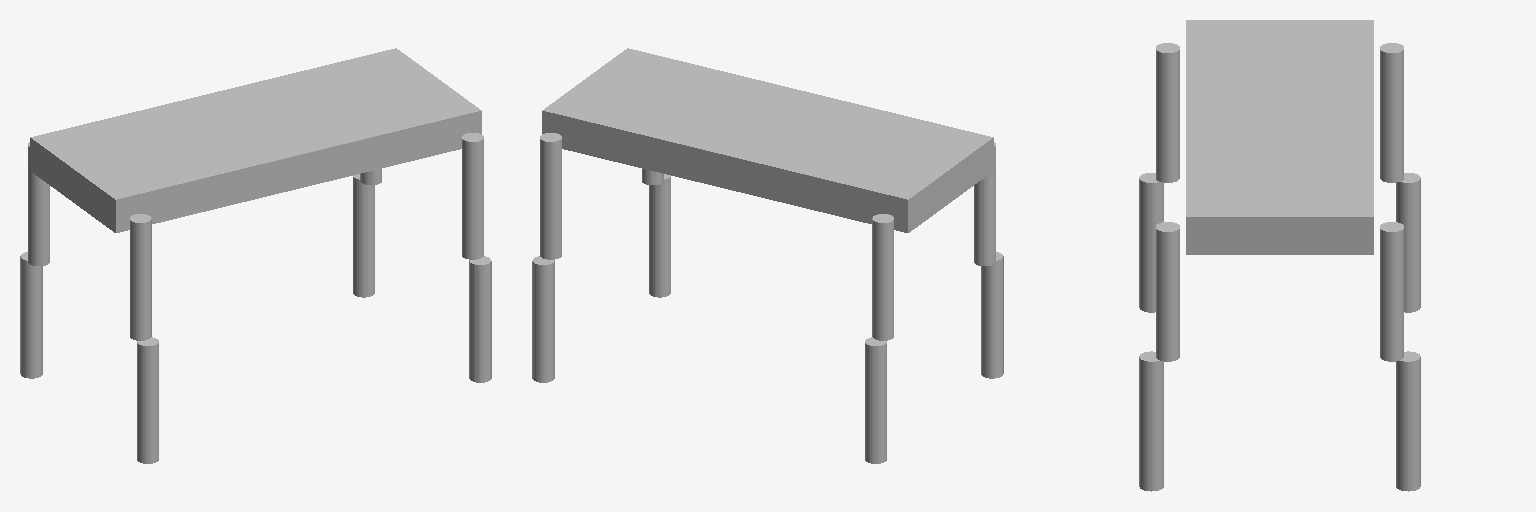
The robot description file, URDF, robot "solo":
<?xml version="1.0"?>
<!-- =================================================================================== -->
<!-- |    This document was autogenerated by xacro from
/tmp/solo/robot_properties_solo/src/robot_properties_solo/resources/xacro/solo12.urdf.xacro | -->
<!-- |    EDITING THIS FILE BY HAND IS NOT RECOMMENDED                                 | -->
<!-- =================================================================================== -->
<robot name="solo"
  xmlns:controller="http://playerstage.sourceforge.net/gazebo/xmlschema/#controller"
  xmlns:interface="http://playerstage.sourceforge.net/gazebo/xmlschema/#interface"
  xmlns:sensor="http://playerstage.sourceforge.net/gazebo/xmlschema/#sensor"
  xmlns:xacro="http://playerstage.sourceforge.net/gazebo/xmlschema/#interface">
  <!-- This file is based on:
  https://github.com/open-dynamic-robot-initiative/open_robot_actuator_hardware/blob/master/mechanics/quadruped_robot_12dof_v1/README.md#quadruped-robot-12dof-v1 -->
  <link name="base_link">
    <!-- BASE LINK INERTIAL -->
    <inertial>
      <origin rpy="0 0 0" xyz="-0.00082966 0.00000105 -0.00060210" />
      <mass value="26.5" />
      <!-- The base is extremely symmetrical. -->
      <inertia ixx="0.00266220" ixy="-0.00003684" ixz="-0.00001716" iyy="0.01388510"
        iyz="-0.00000009" izz="0.01605370" />
    </inertial>
    <!-- BASE LINK VISUAL -->
    <visual>
      <origin rpy="0 0 0" xyz="0 0 0" />
      <geometry>
        <box size="1.14 0.46 0.1" />
      </geometry>
      <material name="grey">
        <color rgba="0.8 0.8 0.8 1.0" />
      </material>
    </visual>
    <!-- BASE LINK COLLISION -->
    <collision>
      <origin rpy="0 0 0" xyz="0 0 0" />
      <!-- <geometry>
        <mesh filename="meshes/stl/solo12/solo_12_base.stl" />
      </geometry> -->
      <geometry>
        <box size="1.14 0.46 0.01" />
      </geometry>
      <material name="grey">
        <color rgba="0.8 0.8 0.8 1.0" />
      </material>
    </collision>
  </link>
  <!-- END BASE LINK -->
  <joint name="FL_HAA" type="revolute">
    <parent link="base_link" />
    <child link="FL_SHOULDER" />
    <limit effort="3" lower="-10" upper="10" velocity="20" />
    <!-- joints rotates around the x-axis -->
    <axis xyz="1 0 0" />
    <origin rpy="0 0 0" xyz="0.57 0.23625 0" />
    <!-- pybullet simulation parameters -->
    <dynamics damping="0.0" friction="0.0" />
  </joint>
  <link name="FL_SHOULDER">
    <!-- HAA VISUAL -->
    <visual>
      <origin rpy="0 0 0" xyz="0.052650 0 0" />
      <!--<geometry>
        <mesh filename="meshes/stl/solo12/solo12_hip_fe_fl.stl" />
      </geometry>-->
      <material name="grey">
        <color rgba="0.8 0.8 0.8 1.0" />
      </material>
    </visual>
    <!-- HAA LINK COLLISION -->
    <!-- <collision>
      <origin rpy="0 0 0" xyz="0.052650 0 0" />
      <geometry>
        <mesh filename="meshes/stl/solo12/solo12_hip_fe_fl.stl" />
      </geometry>
      <material name="grey">
        <color rgba="0.8 0.8 0.8 1.0" />
      </material>
    </collision> -->
    <inertial>
      <mass value="3.0" />
      <!-- HAA body inertia -->
      <origin rpy="0 0 0" xyz="-0.09407251 -0.00438935 0.00001384" />
      <inertia ixx="0.00002802" ixy="0.00003687" ixz="-0.00000009" iyy="0.00038264" iyz="0.00000000"
        izz="0.00038050" />
    </inertial>
  </link>
  <joint name="FL_HFE" type="revolute">
    <parent link="FL_SHOULDER" />
    <child link="FL_UPPER_LEG" />
    <limit effort="3" lower="-10" upper="10" velocity="20" />
    <!-- joints rotates around the y-axis -->
    <axis xyz="0 1 0" />
    <origin rpy="0 0 0" xyz="-0.05265 0.0378 0" />
    <!-- pybullet simulation parameters -->
    <dynamics damping="0.0" friction="0.0" />
  </joint>
  <link name="FL_UPPER_LEG">
    <!-- Left upper leg inertia -->
    <inertial>
      <mass value="3.12" />
      <origin rpy="0 0 0" xyz="0.00001530 0.04772628 -0.21163221" />
      <inertia ixx="0.00041540" ixy="0.00000000" ixz="0.00000010" iyy="0.00041637" iyz="-0.00004589"
        izz="0.00002982" />
    </inertial>
    <!-- UPPER LEG LINK VISUAL -->
    <visual>
      <origin rpy="0 0 0" xyz="0 0 -0.175" />
      <geometry>
        <cylinder length="0.35" radius="0.03" />
      </geometry>
      <material name="grey">
        <color rgba="0.8 0.8 0.8 1.0" />
      </material>
    </visual>
    <!-- UPPER LEG LINK COLLISION -->
    <collision>
      <origin rpy="0 0 0" xyz="0 0 -0.175" />
      <!-- <geometry>
        <mesh filename="meshes/stl/without_foot/solo_upper_leg_left_side.stl" />
      </geometry> -->
      <geometry>
        <cylinder length="0.35" radius="0.03" />
      </geometry>
      <material name="grey">
        <color rgba="0.8 0.8 0.8 1.0" />
      </material>
    </collision>
  </link>
  <!-- END UPPER LEG LINK -->
  <!-- KFE: Joint between the upper leg and the lower leg -->
  <joint name="FL_KFE" type="revolute">
    <parent link="FL_UPPER_LEG" />
    <child link="FL_LOWER_LEG" />
    <limit effort="3" lower="-10" upper="10" velocity="20" />
    <!-- joints rotates around the y-axis -->
    <axis xyz="0 1 0" />
    <origin rpy="0 0 0" xyz="0 0.04 -0.35" />
    <!-- pybullet simulation parameters -->
    <dynamics damping="0.0" friction="0.0" />
  </joint>
  <link name="FL_LOWER_LEG">
    <!-- Left lower leg inertia -->
    <inertial>
      <mass value="0.5" />
      <origin rpy="0 0 0" xyz="0.00000000 0.020971332 -0.189104652" />
      <inertia ixx="0.00008508" ixy="0.00000000" ixz="0.00000000" iyy="0.00008580" iyz="-0.00000200"
        izz="0.00000139" />
    </inertial>
    <!-- LOWER LEG LINK VISUAL -->
    <visual>
      <origin rpy="0 0 0" xyz="0 0 -0.175" />
      <geometry>
        <cylinder length="0.35" radius="0.03" />
      </geometry>
      <material name="grey">
        <color rgba="0.8 0.8 0.8 1.0" />
      </material>
    </visual>
    <!-- LOWER LEG LINK COLLISION -->
    <collision>
      <origin rpy="0 0 0" xyz="0 0 -0.35" />
      <!-- <geometry>
        <mesh filename="meshes/stl/without_foot/solo_lower_leg_v2_left_side.stl" />
      </geometry> -->
      <geometry>
        <sphere radius="0.03" />
      </geometry>
      <material name="grey">
        <color rgba="0.8 0.8 0.8 1.0" />
      </material>
    </collision>
    
  </link>
  <!-- END LOWER LEG LINK -->
  <!-- Joint between the lower leg and the ankle,
         this is only a dummy joint such that we
         can assign coordinate frames to foot-->
  <joint name="FL_ANKLE" type="fixed" dont_collapse="true">
    <parent link="FL_LOWER_LEG" />
    <child link="FL_FOOT" />
    <origin rpy="0 0 0" xyz="0 0.0243 -0.35" />
    <!-- Limits -->
    <limit effort="3" lower="-10" upper="10" velocity="20" />
    <!-- pybullet simulation parameters -->
    <dynamics damping="0.0" friction="0.0" />
  </joint>
  <link name="FL_FOOT">
    <!-- FOOT INERTIAL -->
    <inertial>
      <origin rpy="0 0 0" xyz="0 0 0.00035767" />
      <mass value="0.15" />
      <inertia ixx="0.00000057" ixy="0.0" ixz="0.0" iyy="0.00000084" iyz="0.0" izz="0.00000053" />
    </inertial>
  </link>
  <!-- END FOOT LINK -->
  <joint name="FR_HAA" type="revolute">
    <parent link="base_link" />
    <child link="FR_SHOULDER" />
    <limit effort="3" lower="-10" upper="10" velocity="20" />
    <!-- joints rotates around the x-axis -->
    <axis xyz="1 0 0" />
    <origin rpy="0 0 0" xyz="0.57 -0.23625 0" />
    <!-- pybullet simulation parameters -->
    <dynamics damping="0.0" friction="0.0" />
  </joint>
  <link name="FR_SHOULDER">
    <!-- HAA VISUAL -->
    <visual>
      <origin rpy="0 0 0" xyz="0.052650 0 0" />
      <!--<geometry>
        <mesh filename="meshes/stl/solo12/solo12_hip_fe_fr.stl" />
      </geometry>-->
      <material name="grey">
        <color rgba="0.8 0.8 0.8 1.0" />
      </material>
    </visual>
    <!-- HAA LINK COLLISION -->
    <!-- <collision>
      <origin rpy="0 0 0" xyz="0.052650 0 0" />
      <geometry>
        <mesh filename="meshes/stl/solo12/solo12_hip_fe_fr.stl" />
      </geometry>
      <material name="grey">
        <color rgba="0.8 0.8 0.8 1.0" />
      </material>
    </collision> -->
    <inertial>
      <mass value="3.0" />
      <!-- HAA body inertia -->
      <origin rpy="0 0 0" xyz="-0.09407251 0.00438935 -0.00001384" />
      <inertia ixx="0.00002802" ixy="-0.00003687" ixz="0.00000009" iyy="0.00038264" iyz="0.00000000"
        izz="0.00038050" />
    </inertial>
  </link>
  <joint name="FR_HFE" type="revolute">
    <parent link="FR_SHOULDER" />
    <child link="FR_UPPER_LEG" />
    <limit effort="3" lower="-10" upper="10" velocity="20" />
    <!-- joints rotates around the y-axis -->
    <axis xyz="0 1 0" />
    <origin rpy="0 0 0" xyz="-0.05265 -0.0378 0" />
    <!-- pybullet simulation parameters -->
    <dynamics damping="0.0" friction="0.0" />
  </joint>
  <link name="FR_UPPER_LEG">
    <!-- Right upper leg inertia -->
    <inertial>
      <mass value="3.12" />
      <origin rpy="0 0 0" xyz="-0.00001530 -0.04772628 -0.21163221" />
      <inertia ixx="0.00041540" ixy="0.00000000" ixz="-0.00000010" iyy="0.00041637" iyz="0.00004589"
        izz="0.00002982" />
    </inertial>
    <!-- UPPER LEG LINK VISUAL -->
    <visual>
      <origin rpy="0 0 0" xyz="0 0 -0.175" />
      <geometry>
        <cylinder length="0.35" radius="0.03" />
      </geometry>
      <material name="grey">
        <color rgba="0.8 0.8 0.8 1.0" />
      </material>
    </visual>
    <!-- UPPER LEG LINK COLLISION -->
    <collision>
      <origin rpy="0 0 0" xyz="0 0 -0.175" />
      <!-- <geometry>
        <mesh filename="meshes/stl/without_foot/solo_upper_leg_right_side.stl" />
      </geometry> -->
      <geometry>
        <cylinder length="0.35" radius="0.03" />
      </geometry>
      <material name="grey">
        <color rgba="0.8 0.8 0.8 1.0" />
      </material>
    </collision>
  </link>
  <!-- END UPPER LEG LINK -->
  <!-- KFE: Joint between the upper leg and the lower leg -->
  <joint name="FR_KFE" type="revolute">
    <parent link="FR_UPPER_LEG" />
    <child link="FR_LOWER_LEG" />
    <limit effort="3" lower="-10" upper="10" velocity="20" />
    <!-- joints rotates around the y-axis -->
    <axis xyz="0 1 0" />
    <origin rpy="0 0 0" xyz="0 -0.04 -0.35" />
    <!-- pybullet simulation parameters -->
    <dynamics damping="0.0" friction="0.0" />
  </joint>
  <link name="FR_LOWER_LEG">
    <!-- Right lower leg inertia -->
    <inertial>
      <mass value="0.5" />
      <origin rpy="0 0 0" xyz="0.00000000 -0.020971332 -0.189104652" />
      <inertia ixx="0.00008508" ixy="0.00000000" ixz="0.00000000" iyy="0.00008580" iyz="0.00000200"
        izz="0.00000139" />
    </inertial>
    <!-- LOWER LEG LINK VISUAL -->
    <visual>
      <origin rpy="0 0 0" xyz="0 0 -0.175" />
      <geometry>
        <cylinder length="0.35" radius="0.03" />
      </geometry>
      <material name="grey">
        <color rgba="0.8 0.8 0.8 1.0" />
      </material>
    </visual>
    <!-- LOWER LEG LINK COLLISION -->
    <collision>
      <origin rpy="0 0 0" xyz="0 0 -0.35" />
      <!-- <geometry>
        <mesh filename="meshes/stl/without_foot/solo_lower_leg_v2_right_side.stl" />
      </geometry> -->
      <geometry>
        <sphere radius="0.03" />
      </geometry>
      <material name="grey">
        <color rgba="0.8 0.8 0.8 1.0" />
      </material>
    </collision>
  </link>
  <!-- END LOWER LEG LINK -->
  <!-- Joint between the lower leg and the ankle,
         this is only a dummy joint such that we
         can assign coordinate frames to foot-->
  <joint name="FR_ANKLE" type="fixed" dont_collapse="true">
    <parent link="FR_LOWER_LEG" />
    <child link="FR_FOOT" />
    <origin rpy="0 0 0" xyz="0 -0.0243 -0.35" />
    <!-- Limits -->
    <limit effort="3" lower="-10" upper="10" velocity="20" />
    <!-- pybullet simulation parameters -->
    <dynamics damping="0.0" friction="0.0" />
  </joint>
  <link name="FR_FOOT">
    <!-- FOOT INERTIAL -->
    <inertial>
      <origin rpy="0 0 0" xyz="0 0 0.00035767" />
      <mass value="0.15" />
      <inertia ixx="0.00000057" ixy="0.0" ixz="0.0" iyy="0.00000084" iyz="0.0" izz="0.00000053" />
    </inertial>
  </link>
  <!-- END FOOT LINK -->
  <joint name="HL_HAA" type="revolute">
    <parent link="base_link" />
    <child link="HL_SHOULDER" />
    <limit effort="3" lower="-10" upper="10" velocity="20" />
    <!-- joints rotates around the x-axis -->
    <axis xyz="1 0 0" />
    <origin rpy="0 0 0" xyz="-0.57 0.23625 0" />
    <!-- pybullet simulation parameters -->
    <dynamics damping="0.0" friction="0.0" />
  </joint>
  <link name="HL_SHOULDER">
    <!-- HAA VISUAL -->
    <visual>
      <origin rpy="0 0 0" xyz="-0.052650 0 0" />
      <!--<geometry>
        <mesh filename="meshes/stl/solo12/solo12_hip_fe_hl.stl" />
      </geometry>-->
      <material name="grey">
        <color rgba="0.8 0.8 0.8 1.0" />
      </material>
    </visual>
    <!-- HAA LINK COLLISION -->
    <!-- <collision>
      <origin rpy="0 0 0" xyz="-0.052650 0 0" />
      <geometry>
        <mesh filename="meshes/stl/solo12/solo12_hip_fe_hl.stl" />
      </geometry>
      <material name="grey">
        <color rgba="0.8 0.8 0.8 1.0" />
      </material>
    </collision> -->
    <inertial>
      <mass value="3.0" />
      <!-- HAA body inertia -->
      <origin rpy="0 0 0" xyz="0.09407251 -0.00438935 -0.00001384" />
      <inertia ixx="0.00002802" ixy="-0.00003687" ixz="-0.00000009" iyy="0.00038264"
        iyz="0.00000000" izz="0.00038050" />
    </inertial>
  </link>
  <joint name="HL_HFE" type="revolute">
    <parent link="HL_SHOULDER" />
    <child link="HL_UPPER_LEG" />
    <limit effort="3" lower="-10" upper="10" velocity="20" />
    <!-- joints rotates around the y-axis -->
    <axis xyz="0 1 0" />
    <origin rpy="0 0 0" xyz="0.05265 0.0378 0" />
    <!-- pybullet simulation parameters -->
    <dynamics damping="0.0" friction="0.0" />
  </joint>
  <link name="HL_UPPER_LEG">
    <!-- Left upper leg inertia -->
    <inertial>
      <mass value="3.12" />
      <origin rpy="0 0 0" xyz="0.00001530 0.04772628 -0.21163221" />
      <inertia ixx="0.00041540" ixy="0.00000000" ixz="0.00000010" iyy="0.00041637" iyz="-0.00004589"
        izz="0.00002982" />
    </inertial>
    <!-- UPPER LEG LINK VISUAL -->
    <visual>
      <origin rpy="0 0 0" xyz="0 0 -0.175" />
      <geometry>
        <cylinder length="0.35" radius="0.03" />
      </geometry>
      <material name="grey">
        <color rgba="0.8 0.8 0.8 1.0" />
      </material>
    </visual>
    <!-- UPPER LEG LINK COLLISION -->
    <collision>
      <origin rpy="0 0 0" xyz="0 0 -0.175" />
      <!-- <geometry>
        <mesh filename="meshes/stl/without_foot/solo_upper_leg_left_side.stl" />
      </geometry> -->
      <geometry>
        <cylinder length="0.35" radius="0.03" />
      </geometry>
      <material name="grey">
        <color rgba="0.8 0.8 0.8 1.0" />
      </material>
    </collision>
  </link>
  <!-- END UPPER LEG LINK -->
  <!-- KFE: Joint between the upper leg and the lower leg -->
  <joint name="HL_KFE" type="revolute">
    <parent link="HL_UPPER_LEG" />
    <child link="HL_LOWER_LEG" />
    <limit effort="3" lower="-10" upper="10" velocity="20" />
    <!-- joints rotates around the y-axis -->
    <axis xyz="0 1 0" />
    <origin rpy="0 0 0" xyz="0 0.04 -0.35" />
    <!-- pybullet simulation parameters -->
    <dynamics damping="0.0" friction="0.0" />
  </joint>
  <link name="HL_LOWER_LEG">
    <!-- Left lower leg inertia -->
    <inertial>
      <mass value="0.5" />
      <origin rpy="0 0 0" xyz="0.00000000 0.020971332 -0.189104652" />
      <inertia ixx="0.00008508" ixy="0.00000000" ixz="0.00000000" iyy="0.00008580" iyz="-0.00000200"
        izz="0.00000139" />
    </inertial>
    <!-- LOWER LEG LINK VISUAL -->
    <visual>
      <origin rpy="0 0 0" xyz="0 0 -0.175" />
      <geometry>
        <cylinder length="0.35" radius="0.03" />
      </geometry>
      <material name="grey">
        <color rgba="0.8 0.8 0.8 1.0" />
      </material>
    </visual>
    <!-- LOWER LEG LINK COLLISION -->
    <collision>
      <origin rpy="0 0 0" xyz="0 0 -0.35" />
      <!-- <geometry>
        <mesh filename="meshes/stl/without_foot/solo_lower_leg_v2_left_side.stl" />
      </geometry> -->
      <geometry>
        <sphere radius="0.03" />
      </geometry>
      <material name="grey">
        <color rgba="0.8 0.8 0.8 1.0" />
      </material>
    </collision>
  </link>
  <!-- END LOWER LEG LINK -->
  <!-- Joint between the lower leg and the ankle,
         this is only a dummy joint such that we
         can assign coordinate frames to foot-->
  <joint name="HL_ANKLE" type="fixed" dont_collapse="true">
    <parent link="HL_LOWER_LEG" />
    <child link="HL_FOOT" />
    <origin rpy="0 0 0" xyz="0 0.0243 -0.35" />
    <!-- Limits -->
    <limit effort="3" lower="-10" upper="10" velocity="20" />
    <!-- pybullet simulation parameters -->
    <dynamics damping="0.0" friction="0.0" />
  </joint>
  <link name="HL_FOOT">
    <!-- FOOT INERTIAL -->
    <inertial>
      <origin rpy="0 0 0" xyz="0 0 0.00035767" />
      <mass value="0.15" />
      <inertia ixx="0.00000057" ixy="0.0" ixz="0.0" iyy="0.00000084" iyz="0.0" izz="0.00000053" />
    </inertial>
  </link>
  <!-- END FOOT LINK -->
  <joint name="HR_HAA" type="revolute">
    <parent link="base_link" />
    <child link="HR_SHOULDER" />
    <limit effort="3" lower="-10" upper="10" velocity="20" />
    <!-- joints rotates around the x-axis -->
    <axis xyz="1 0 0" />
    <origin rpy="0 0 0" xyz="-0.57 -0.23625 0" />
    <!-- pybullet simulation parameters -->
    <dynamics damping="0.0" friction="0.0" />
  </joint>
  <link name="HR_SHOULDER">
    <!-- HAA VISUAL -->
    <visual>
      <origin rpy="0 0 0" xyz="-0.052650 0 0" />
      <!--<geometry>
        <mesh filename="meshes/stl/solo12/solo12_hip_fe_hr.stl" />
      </geometry>-->
      <material name="grey">
        <color rgba="0.8 0.8 0.8 1.0" />
      </material>
    </visual>
    <!-- HAA LINK COLLISION -->
    <!-- <collision>
      <origin rpy="0 0 0" xyz="-0.052650 0 0" />
      <geometry>
        <mesh filename="meshes/stl/solo12/solo12_hip_fe_hr.stl" />
      </geometry>
      <material name="grey">
        <color rgba="0.8 0.8 0.8 1.0" />
      </material>
    </collision> -->
    <inertial>
      <mass value="3.0" />
      <!-- HAA body inertia -->
      <origin rpy="0 0 0" xyz="0.09407251 0.00438935 0.00001384" />
      <inertia ixx="0.00002802" ixy="0.00003687" ixz="0.00000009" iyy="0.00038264" iyz="0.00000000"
        izz="0.00038050" />
    </inertial>
  </link>
  <joint name="HR_HFE" type="revolute">
    <parent link="HR_SHOULDER" />
    <child link="HR_UPPER_LEG" />
    <limit effort="3" lower="-10" upper="10" velocity="20" />
    <!-- joints rotates around the y-axis -->
    <axis xyz="0 1 0" />
    <origin rpy="0 0 0" xyz="0.05265 -0.0378 0" />
    <!-- pybullet simulation parameters -->
    <dynamics damping="0.0" friction="0.0" />
  </joint>
  <link name="HR_UPPER_LEG">
    <!-- Right upper leg inertia -->
    <inertial>
      <mass value="3.12" />
      <origin rpy="0 0 0" xyz="-0.00001530 -0.04772628 -0.21163221" />
      <inertia ixx="0.00041540" ixy="0.00000000" ixz="-0.00000010" iyy="0.00041637" iyz="0.00004589"
        izz="0.00002982" />
    </inertial>
    <!-- UPPER LEG LINK VISUAL -->
    <visual>
      <origin rpy="0 0 0" xyz="0 0 -0.175" />
      <geometry>
        <cylinder length="0.35" radius="0.03" />
      </geometry>
      <material name="grey">
        <color rgba="0.8 0.8 0.8 1.0" />
      </material>
    </visual>
    <!-- UPPER LEG LINK COLLISION -->
    <collision>
      <origin rpy="0 0 0" xyz="0 0 -0.175" />
      <!-- <geometry>
        <mesh filename="meshes/stl/without_foot/solo_upper_leg_right_side.stl" />
      </geometry> -->
      <geometry>
        <cylinder length="0.35" radius="0.03" />
      </geometry>
      <material name="grey">
        <color rgba="0.8 0.8 0.8 1.0" />
      </material>
    </collision>
  </link>
  <!-- END UPPER LEG LINK -->
  <!-- KFE: Joint between the upper leg and the lower leg -->
  <joint name="HR_KFE" type="revolute">
    <parent link="HR_UPPER_LEG" />
    <child link="HR_LOWER_LEG" />
    <limit effort="3" lower="-10" upper="10" velocity="20" />
    <!-- joints rotates around the y-axis -->
    <axis xyz="0 1 0" />
    <origin rpy="0 0 0" xyz="0 -0.04 -0.35" />
    <!-- pybullet simulation parameters -->
    <dynamics damping="0.0" friction="0.0" />
  </joint>
  <link name="HR_LOWER_LEG">
    <!-- Right lower leg inertia -->
    <inertial>
      <mass value="0.5" />
      <origin rpy="0 0 0" xyz="0.00000000 -0.020971332 -0.189104652" />
      <inertia ixx="0.00008508" ixy="0.00000000" ixz="0.00000000" iyy="0.00008580" iyz="0.00000200"
        izz="0.00000139" />
    </inertial>
    <!-- LOWER LEG LINK VISUAL -->
    <visual>
      <origin rpy="0 0 0" xyz="0 0 -0.175" />
      <geometry>
        <cylinder length="0.35" radius="0.03" />
      </geometry>
      <material name="grey">
        <color rgba="0.8 0.8 0.8 1.0" />
      </material>
    </visual>
    <!-- LOWER LEG LINK COLLISION -->
    <collision>
      <origin rpy="0 0 0" xyz="0 0 -0.35" />
      <!-- <geometry>
        <mesh filename="meshes/stl/without_foot/solo_lower_leg_v2_right_side.stl" />
      </geometry> -->
      <geometry>
        <sphere radius="0.03" />
      </geometry>
      <material name="grey">
        <color rgba="0.8 0.8 0.8 1.0" />
      </material>
    </collision>
  </link>
  <!-- END LOWER LEG LINK -->
  <!-- Joint between the lower leg and the ankle,
         this is only a dummy joint such that we
         can assign coordinate frames to foot-->
  <joint name="HR_ANKLE" type="fixed" dont_collapse="true">
    <parent link="HR_LOWER_LEG" />
    <child link="HR_FOOT" />
    <origin rpy="0 0 0" xyz="0 -0.0243 -0.35" />
    <!-- Limits -->
    <limit effort="3" lower="-10" upper="10" velocity="20" />
    <!-- pybullet simulation parameters -->
    <dynamics damping="0.0" friction="0.0" />
  </joint>
  <link name="HR_FOOT">
    <!-- FOOT INERTIAL -->
    <inertial>
      <origin rpy="0 0 0" xyz="0 0 0.00035767" />
      <mass value="0.15" />
      <inertia ixx="0.00000057" ixy="0.0" ixz="0.0" iyy="0.00000084" iyz="0.0" izz="0.00000053" />
    </inertial>
  </link>
  <!-- END FOOT LINK -->
</robot>

--- What the picture shows (computed from the rendered views, not written in the file) ---
Views: 3 orthographic renders of the robot side by side, from view 1: azimuth 30°, elevation 25°; view 2: azimuth 150°, elevation 25°; view 3: azimuth 270°, elevation 25°.
Robot: solo — 17 links, 16 joints (12 revolute, 4 fixed); root link base_link; default pose: every joint at zero.
Visible links, largest first — view 1: base_link, FR_LOWER_LEG, FR_UPPER_LEG, HR_UPPER_LEG, HR_LOWER_LEG, HL_LOWER_LEG, FL_LOWER_LEG, HL_UPPER_LEG; view 2: base_link, FL_LOWER_LEG, FL_UPPER_LEG, HL_UPPER_LEG, HL_LOWER_LEG, HR_LOWER_LEG, FR_LOWER_LEG, HR_UPPER_LEG; view 3: base_link, FL_LOWER_LEG, FR_LOWER_LEG, HL_UPPER_LEG, HR_UPPER_LEG, FL_UPPER_LEG, FR_UPPER_LEG, HL_LOWER_LEG, HR_LOWER_LEG.
Boxes of the visible links, x1,y1,x2,y2 form: base_link: (30, 48, 481, 232); FR_LOWER_LEG: (469, 256, 491, 382); FR_UPPER_LEG: (462, 133, 483, 259); HR_UPPER_LEG: (130, 214, 151, 340); HR_LOWER_LEG: (137, 337, 158, 463); HL_LOWER_LEG: (20, 252, 42, 378); FL_LOWER_LEG: (353, 174, 374, 297); HL_UPPER_LEG: (28, 142, 49, 265); base_link: (542, 48, 993, 232); FL_LOWER_LEG: (532, 256, 554, 382); FL_UPPER_LEG: (540, 133, 561, 259); HL_UPPER_LEG: (872, 214, 893, 340); HL_LOWER_LEG: (865, 337, 886, 463); HR_LOWER_LEG: (981, 252, 1003, 378); FR_LOWER_LEG: (649, 174, 670, 297); HR_UPPER_LEG: (974, 142, 995, 265); base_link: (1186, 20, 1373, 254); FL_LOWER_LEG: (1396, 351, 1420, 491); FR_LOWER_LEG: (1139, 351, 1163, 491); HL_UPPER_LEG: (1380, 43, 1403, 182); HR_UPPER_LEG: (1156, 43, 1179, 182); FL_UPPER_LEG: (1380, 222, 1403, 361); FR_UPPER_LEG: (1156, 222, 1179, 361); HL_LOWER_LEG: (1396, 173, 1420, 312); HR_LOWER_LEG: (1139, 173, 1163, 312).
Bounding box of the posed robot: 1.14 × 0.6881 × 0.75 m (x, y, z).
Geometry: primitives only (box / cylinder / sphere), no mesh files.
